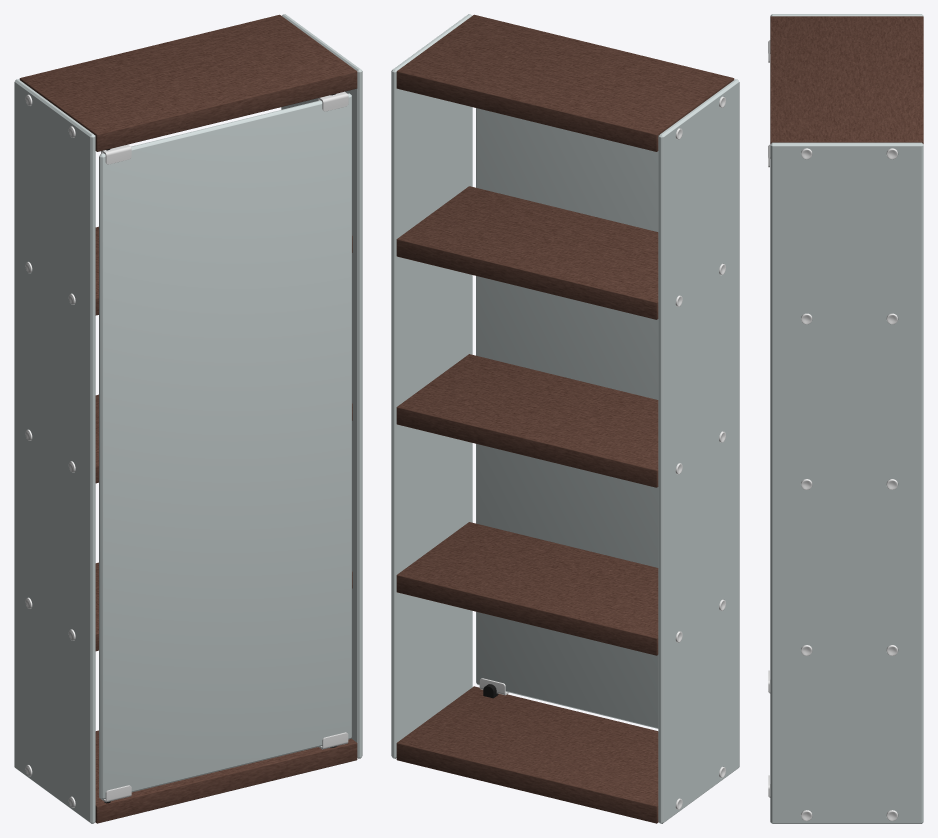
File: display-case.glb
3 views of the same model, side by side, from view 1: azimuth 30°, elevation 25°; view 2: azimuth 150°, elevation 25°; view 3: azimuth 270°, elevation 25° (orthographic).
Parts seen in each view (by area): view 1: Door_0, CabinetBody_1; view 2: CabinetBody_1, Door_0; view 3: CabinetBody_1.
Part boxes in pixels (<box>): Door_0: <box>99,91,351,802</box>; CabinetBody_1: <box>14,14,362,823</box>; CabinetBody_1: <box>391,14,739,823</box>; Door_0: <box>476,108,658,728</box>; CabinetBody_1: <box>770,14,923,823</box>.
Size of the model in its own units: 0.6238 by 1.49 by 0.3089.
6 materials, 1 textured.
